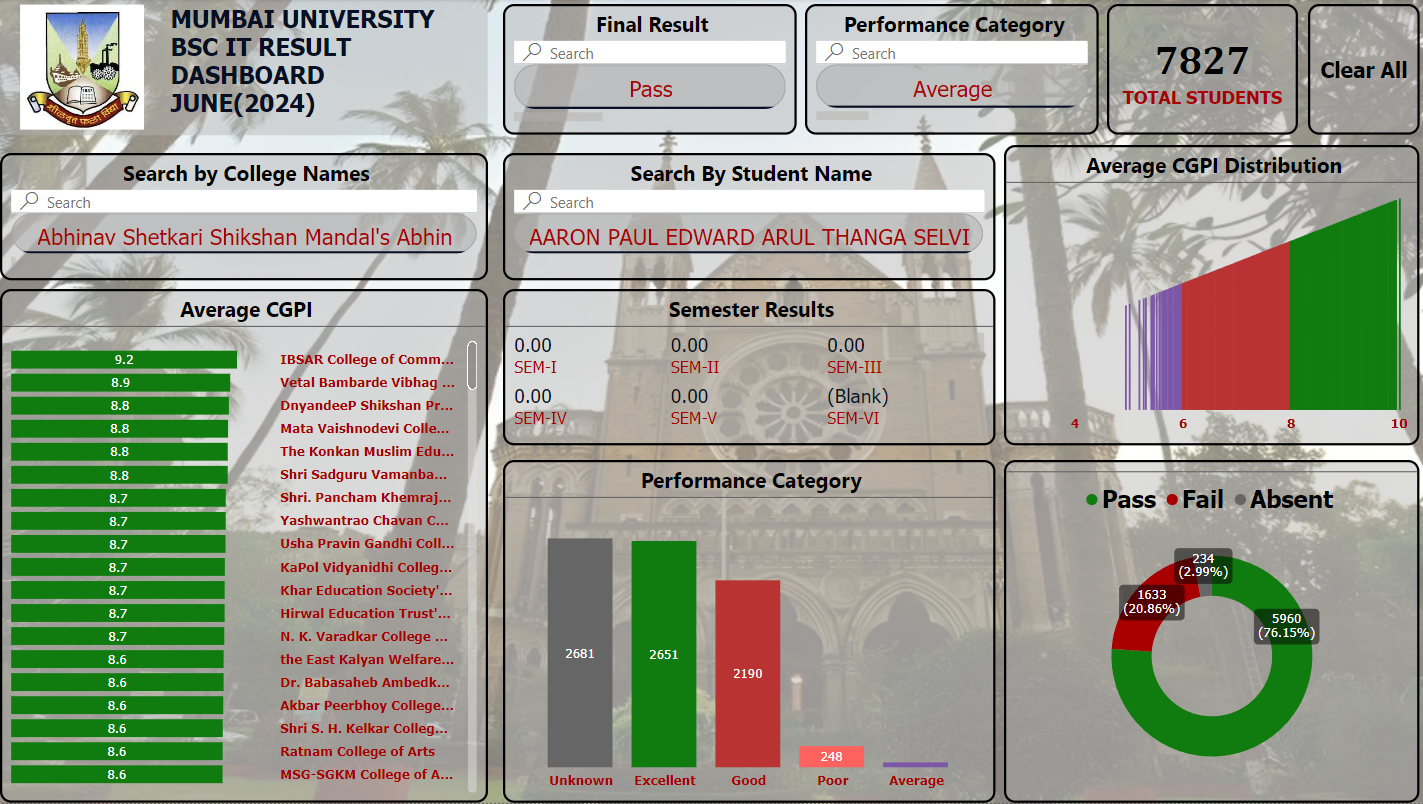

Layout of this report page (visuals, bound fields, positions):
{"tool":"powerbi","page":{"name":"Page 1","canvas":[1280,720],"ordinal":0},"visuals":[{"type":"card","fields":{"Values":["updated_results.Seat_no"]},"box":[991.2,4.9,170.9,116.9],"z":0},{"type":"donutChart","fields":{"Category":["updated_results.PASS/FAIL"],"Y":["updated_results.PASS/FAIL"]},"box":[898.8,412.6,372.3,307.5],"z":1000},{"type":"clusteredColumnChart","title":"Performance Category","fields":{"Category":["updated_results.Performance_category"],"Y":["updated_results.Performance_category"]},"box":[450.4,412.8,440.6,307.2],"z":2000},{"type":"advancedSlicerVisual","title":"Search by College Names","fields":{"Values":["updated_results.College_name"]},"box":[0,137.9,437,113.7],"z":3000},{"type":"advancedSlicerVisual","title":"Performance Category","fields":{"Values":["updated_results.Performance_category"]},"box":[721,4.9,263.3,116.9],"z":4000},{"type":"advancedSlicerVisual","title":"Final Result","fields":{"Values":["updated_results.PASS/FAIL"]},"box":[450.4,4.5,263.3,117.3],"z":5000},{"type":"barChart","title":"Average CGPI","fields":{"Category":["updated_results.College_name"],"Y":["updated_results.CGPI"]},"box":[0,259.7,437,460.3],"z":6000},{"type":"clusteredColumnChart","title":"Average CGPI Distribution","fields":{"Category":["updated_results.CGPI"],"Y":["updated_results.CGPI"]},"box":[898.8,130.7,372.3,269.2],"z":7000},{"type":"multiRowCard","title":"Semester Results","fields":{"Values":["updated_results.SEM-I","updated_results.SEM-II","updated_results.SEM-III","updated_results.SEM-IV","updated_results.SEM-V","updated_results.SEM-VI"]},"box":[450.4,259.7,440.6,140],"z":8000},{"type":"advancedSlicerVisual","title":"Search By Student Name","fields":{"Values":["updated_results.Name"]},"box":[450.4,137.9,440.6,113.7],"z":9000},{"type":"image","box":[0,0,147.8,121.8],"z":10000},{"type":"textbox","box":[147.8,0,289.3,121.8],"z":11000},{"type":"actionButton","title":"Clear","box":[1171,4.9,100.2,116.9],"z":12000}]}

Visuals, with their boxes in screenshot pixels (x1, y1, x2, y2), scaled from the page's 1280x720 canvas onto the 1423x804 screenshot:
card - updated_results.Seat_no: pyautogui.locateOnScreen(1102, 5, 1292, 136)
donutChart - updated_results.PASS/FAIL x updated_results.PASS/FAIL: pyautogui.locateOnScreen(999, 461, 1413, 803)
"Performance Category" clusteredColumnChart: pyautogui.locateOnScreen(501, 461, 991, 803)
"Search by College Names" advancedSlicerVisual: pyautogui.locateOnScreen(0, 154, 486, 281)
"Performance Category" advancedSlicerVisual: pyautogui.locateOnScreen(802, 5, 1094, 136)
"Final Result" advancedSlicerVisual: pyautogui.locateOnScreen(501, 5, 793, 136)
"Average CGPI" barChart: pyautogui.locateOnScreen(0, 290, 486, 803)
"Average CGPI Distribution" clusteredColumnChart: pyautogui.locateOnScreen(999, 146, 1413, 447)
"Semester Results" multiRowCard: pyautogui.locateOnScreen(501, 290, 991, 446)
"Search By Student Name" advancedSlicerVisual: pyautogui.locateOnScreen(501, 154, 991, 281)
image: pyautogui.locateOnScreen(0, 0, 164, 136)
textbox: pyautogui.locateOnScreen(164, 0, 486, 136)
"Clear" actionButton: pyautogui.locateOnScreen(1302, 5, 1413, 136)
